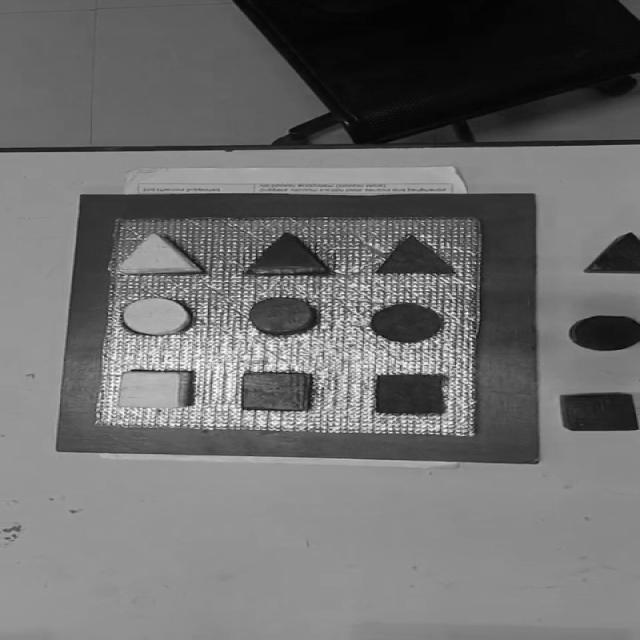bcircle: (569, 314, 640, 352)
bcube: (559, 392, 640, 432)
btriangle: (583, 232, 640, 274)
mtcircle: (119, 296, 194, 336), (367, 303, 442, 342)
mtcube: (371, 373, 447, 416)
mttriangle: (373, 234, 458, 276)
rcircle: (248, 296, 316, 335)
rcube: (240, 372, 311, 412)
rtriangle: (248, 232, 328, 275)
wb: (94, 215, 483, 436)
ycube: (115, 370, 193, 410)
ytriangle: (115, 232, 203, 276)
